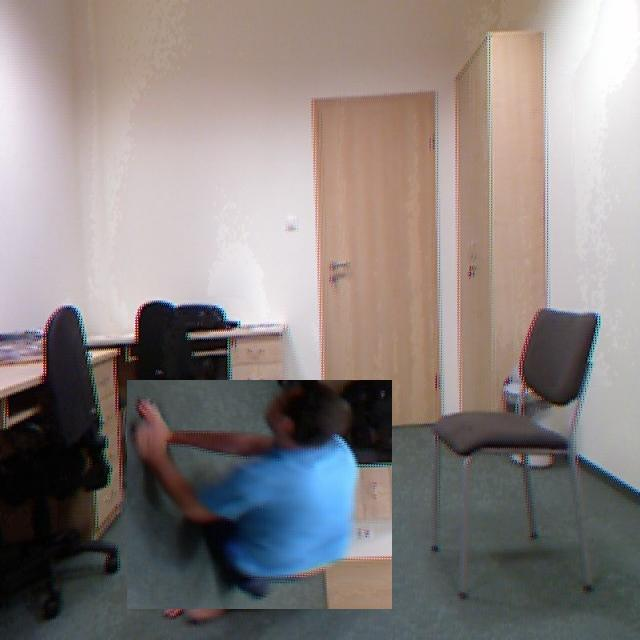Fall: (117, 380, 387, 610)
